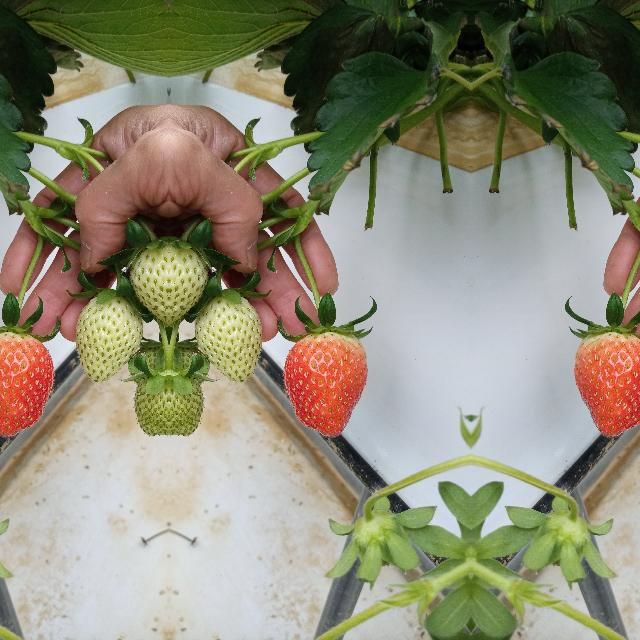Health_100: (281, 332, 367, 436), (574, 331, 640, 436), (0, 331, 55, 436)
Health_25: (200, 297, 260, 383), (76, 297, 136, 383), (170, 235, 204, 328), (132, 235, 166, 328), (168, 371, 202, 445), (134, 371, 168, 445)
